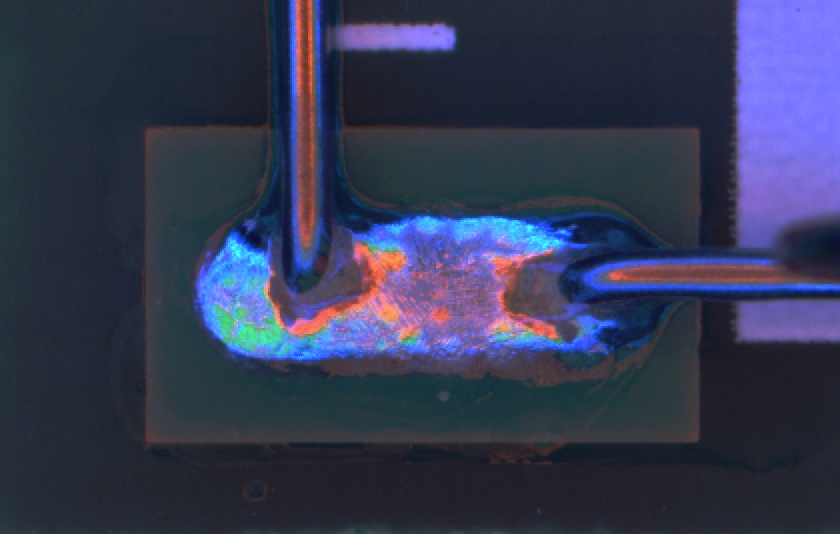spring: (558, 236, 840, 308), (272, 1, 338, 296)
spring_pin: (197, 212, 662, 371)
